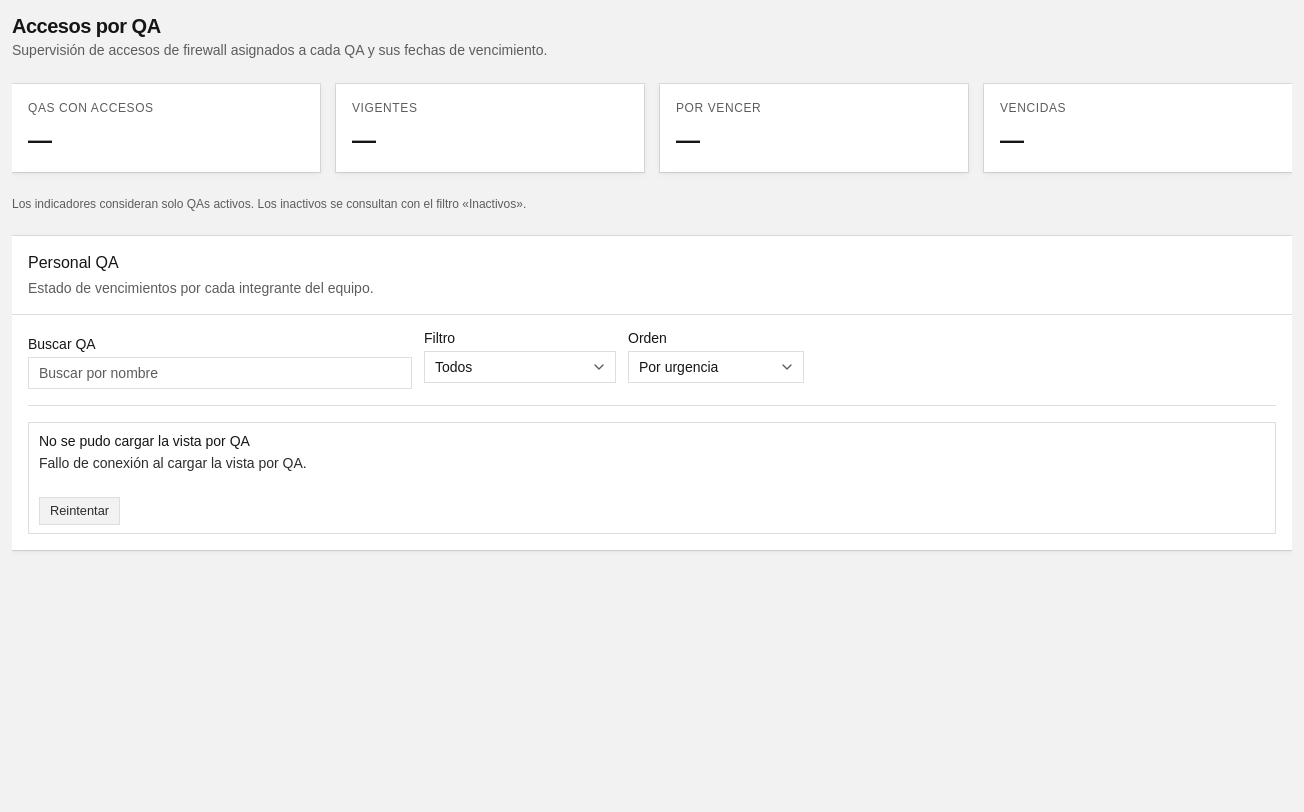
it: AccessesQaPage › muestra error del servidor y permite reintentar
Expected: the text "No se pudo cargar la vista por QA" is shown, 39,433 -> 250,449
Expected: the text "Fallo de conexión al cargar la vista por QA." is shown, 39,455 -> 307,471
Click the button "Reintentar" at (80, 511), box 39,497 -> 120,525
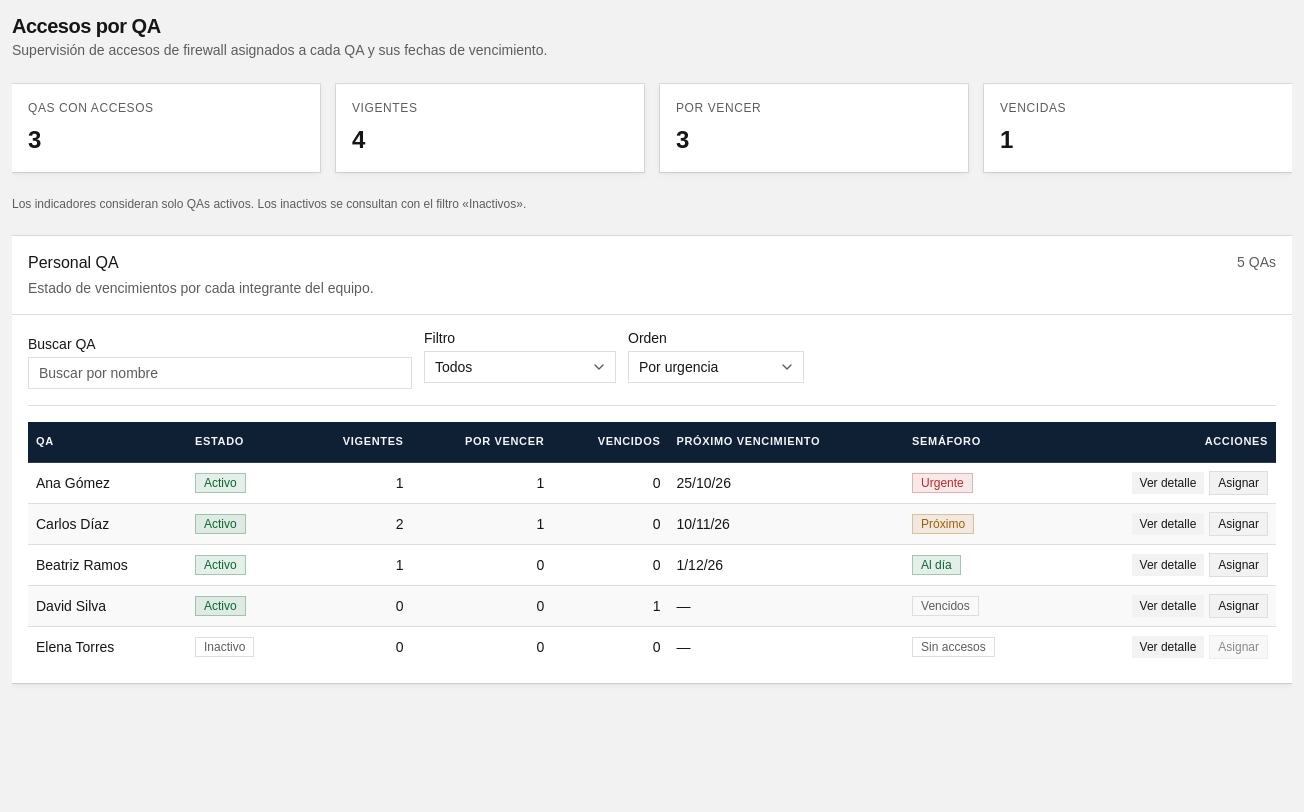
Expected: the text "Ana Gómez" is shown, 36,474 -> 110,490
